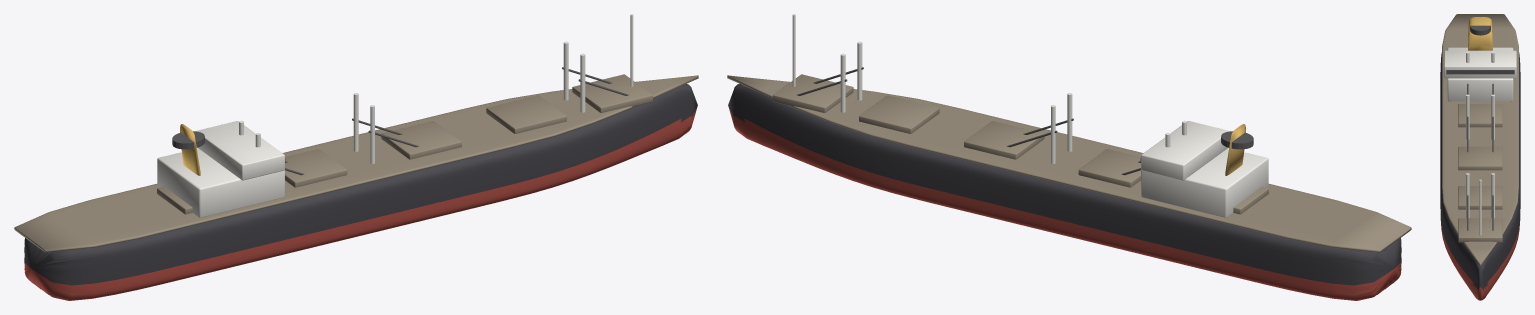
Rendered from ship.glb.
3 renders of one model, left to right at view 1: azimuth 30°, elevation 25°; view 2: azimuth 150°, elevation 25°; view 3: azimuth 270°, elevation 25°, orthographic. The views are drawn at different scales.
Parts seen in each view (by area): view 1: ship; view 2: ship; view 3: ship.
Boxes of the visible parts, left/top/right/bottom form: ship: left=14, top=14, right=698, bottom=300; ship: left=727, top=14, right=1411, bottom=300; ship: left=1440, top=14, right=1520, bottom=300.
Bounding box in the file's own units: 140 × 26.99 × 18.97.
